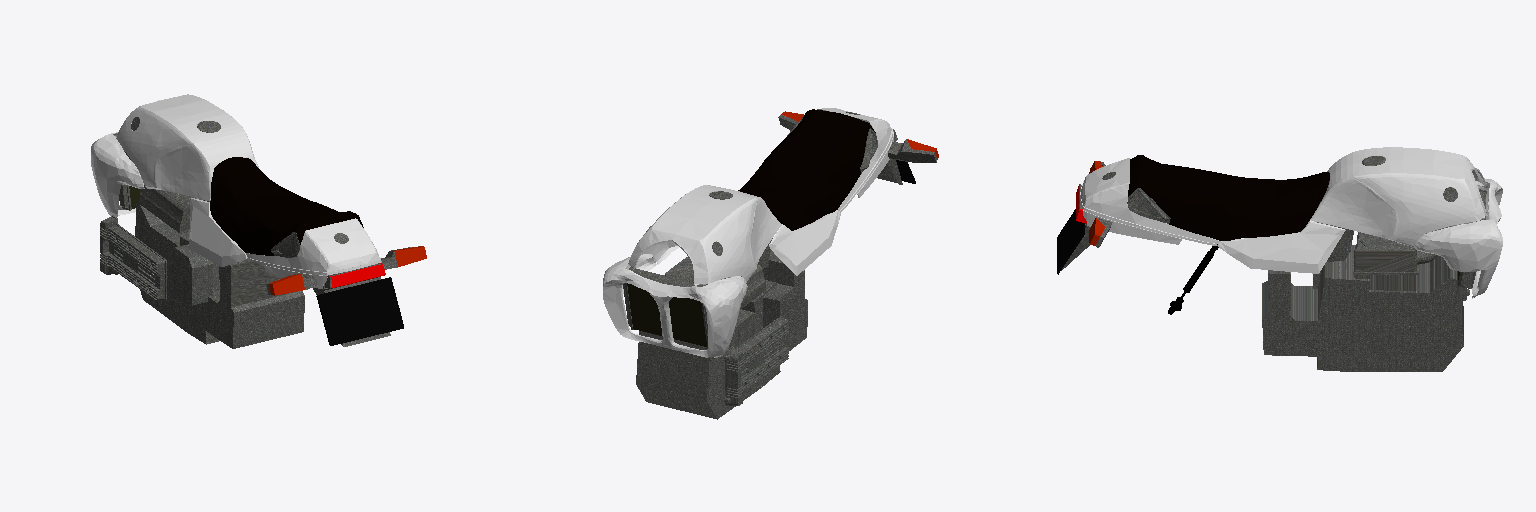
3 renders of one model, left to right at view 1: azimuth 30°, elevation 25°; view 2: azimuth 150°, elevation 25°; view 3: azimuth 270°, elevation 25°, orthographic.
Parts seen in each view (by area): view 1: BMWDEPO; view 2: BMWDEPO; view 3: BMWDEPO.
Part boxes in pixels (left/top/right/bottom): BMWDEPO: left=91, top=94, right=426, bottom=348; BMWDEPO: left=603, top=108, right=938, bottom=419; BMWDEPO: left=1057, top=147, right=1502, bottom=371.
Size of the model in its own units: 3344 by 3964 by 8288.
11 materials, 1 textured.